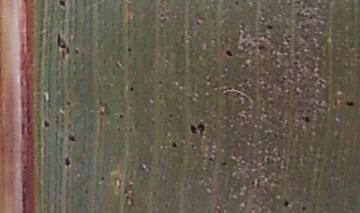tarspot: (55, 28, 71, 62), (300, 112, 312, 127), (196, 121, 206, 139), (62, 154, 75, 167), (67, 131, 77, 146), (57, 1, 70, 12), (188, 124, 198, 138), (41, 118, 52, 130), (170, 139, 179, 151), (282, 198, 292, 208), (224, 48, 233, 59), (346, 98, 355, 109), (265, 22, 274, 31), (300, 204, 309, 213), (126, 45, 135, 54), (64, 100, 73, 109), (127, 84, 135, 94), (168, 111, 175, 122), (99, 174, 108, 182), (83, 188, 92, 196), (118, 111, 125, 121), (257, 45, 268, 51), (74, 48, 81, 57), (208, 155, 215, 163), (221, 161, 228, 167), (116, 126, 122, 132), (234, 1, 239, 8)
